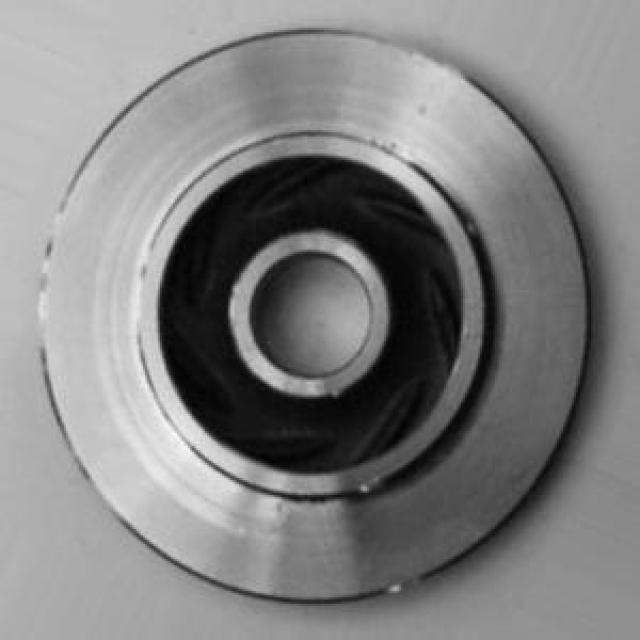Defect: (352, 475, 387, 504)
